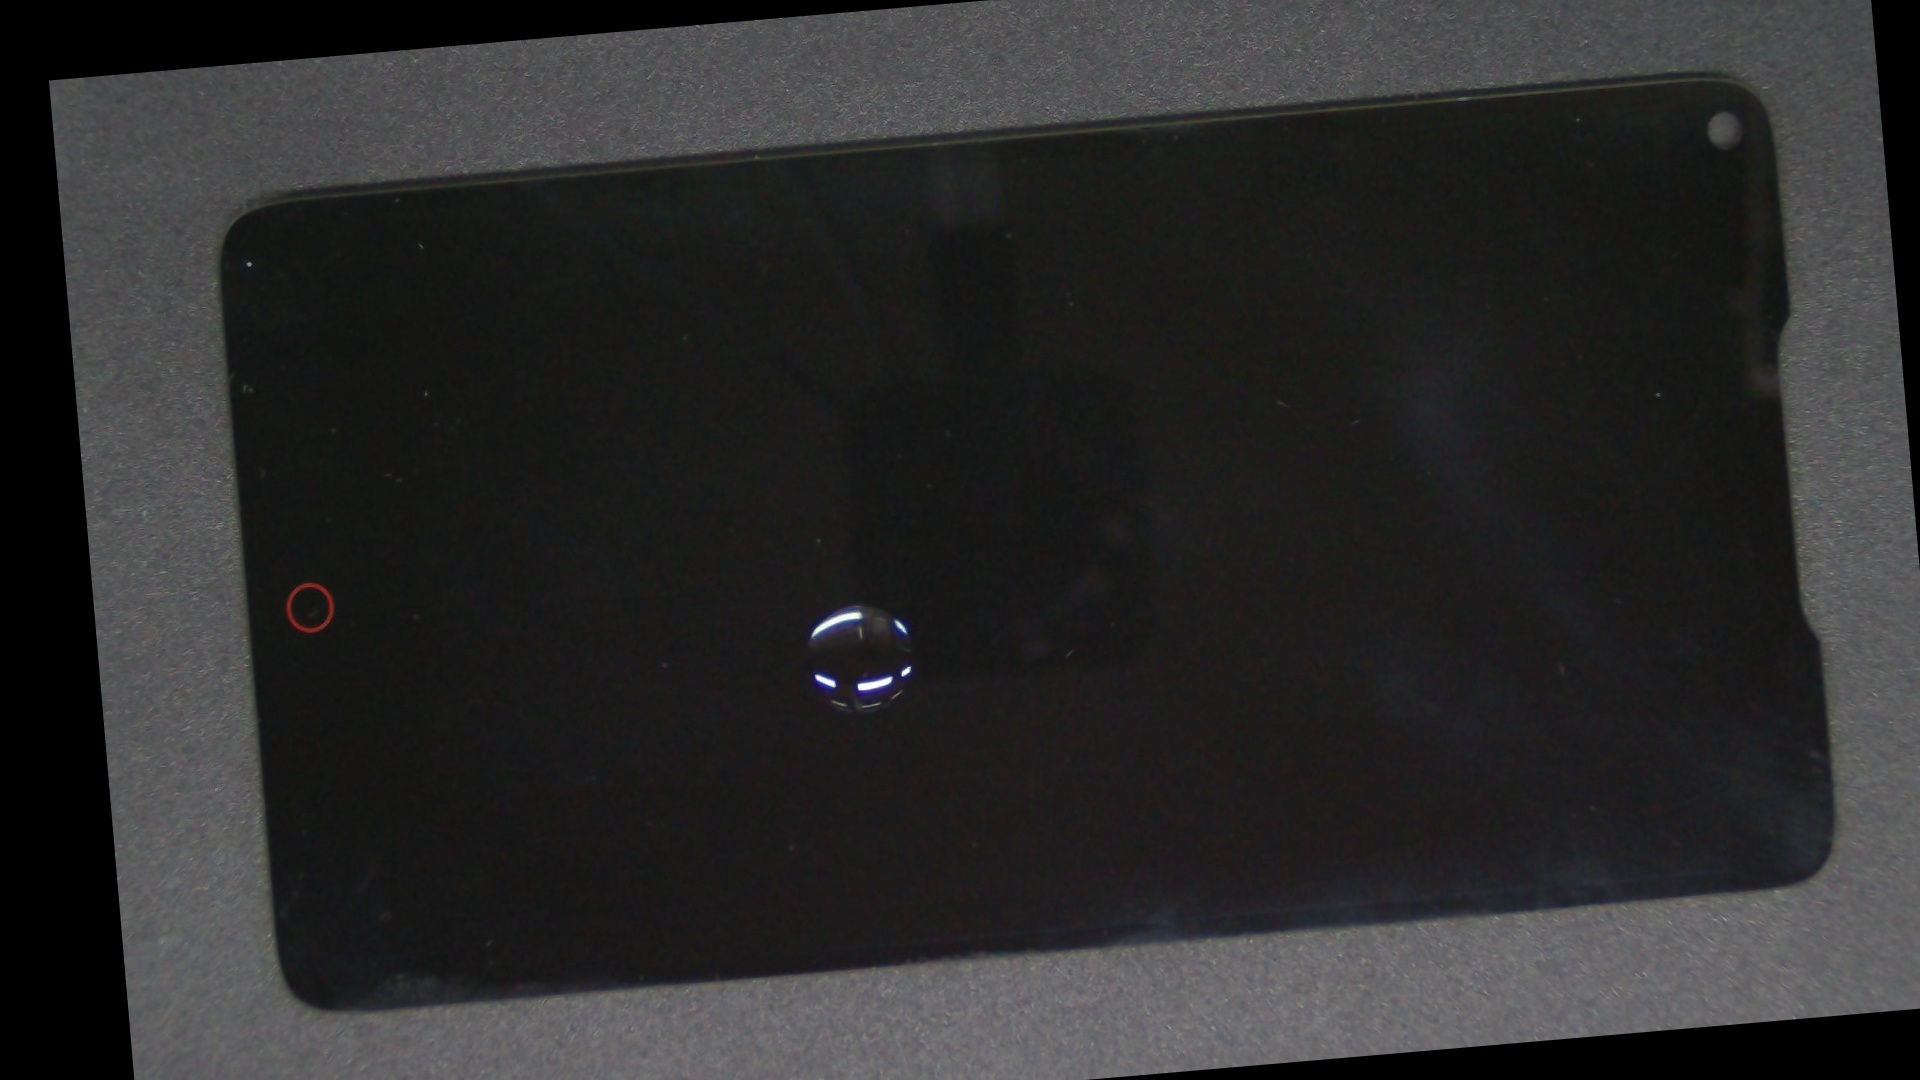oil: (450, 278, 1250, 932)
